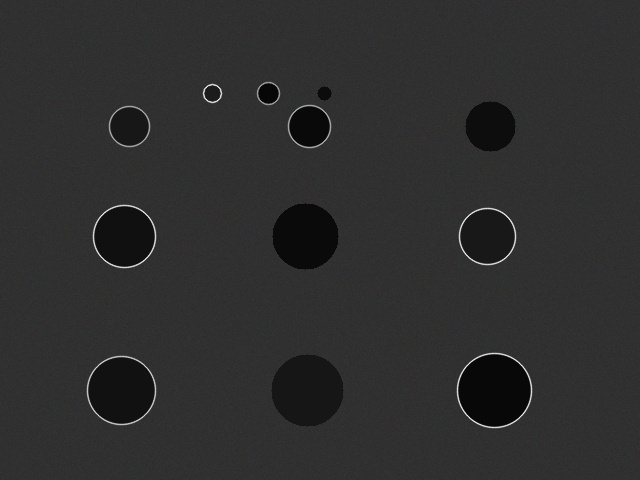hole: (457, 353, 531, 427), (271, 354, 343, 426), (87, 356, 155, 424), (272, 203, 338, 269), (93, 205, 155, 267), (459, 208, 515, 264), (465, 101, 515, 151), (288, 105, 330, 147), (109, 106, 149, 146), (257, 82, 279, 104), (203, 84, 221, 102), (317, 86, 331, 100)
